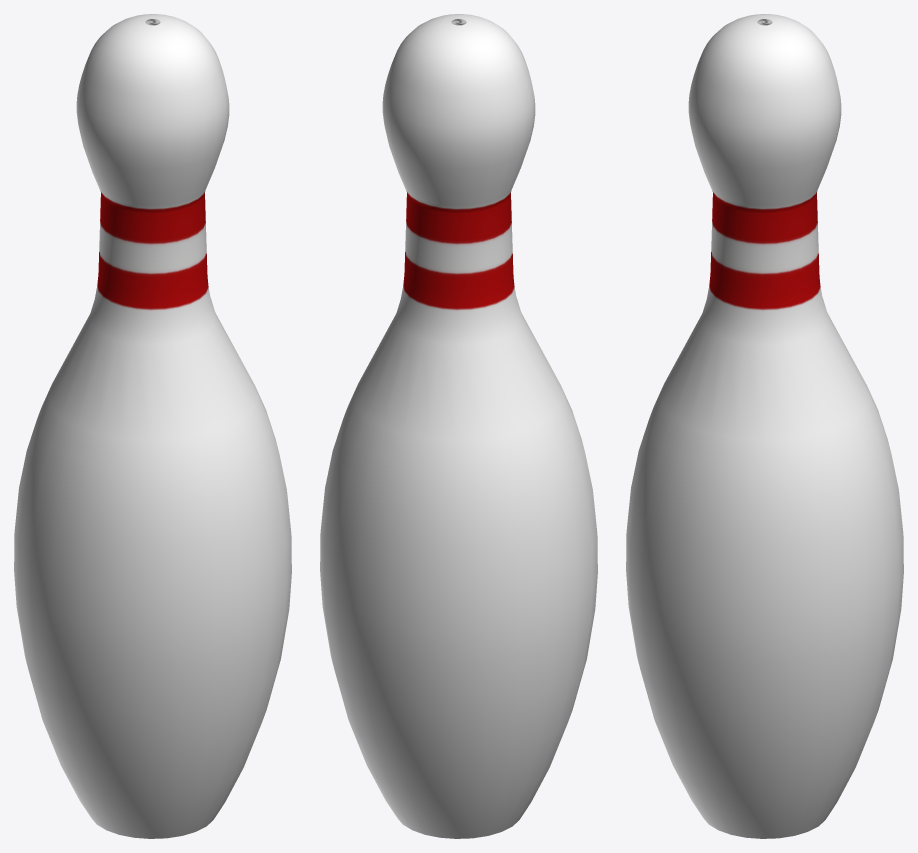
File: Bowlingpin_Neu.fbx
3 renders of one model, left to right at view 1: azimuth 30°, elevation 25°; view 2: azimuth 150°, elevation 25°; view 3: azimuth 270°, elevation 25°, orthographic.
Parts seen in each view (by area): view 1: Lathe_1; view 2: Lathe_1; view 3: Lathe_1.
Part boxes in pixels (left/top/right/bottom): Lathe_1: left=14, top=14, right=291, bottom=838; Lathe_1: left=320, top=14, right=597, bottom=838; Lathe_1: left=626, top=14, right=903, bottom=838.
Bounding box in the file's own units: 238 × 747 × 238.
